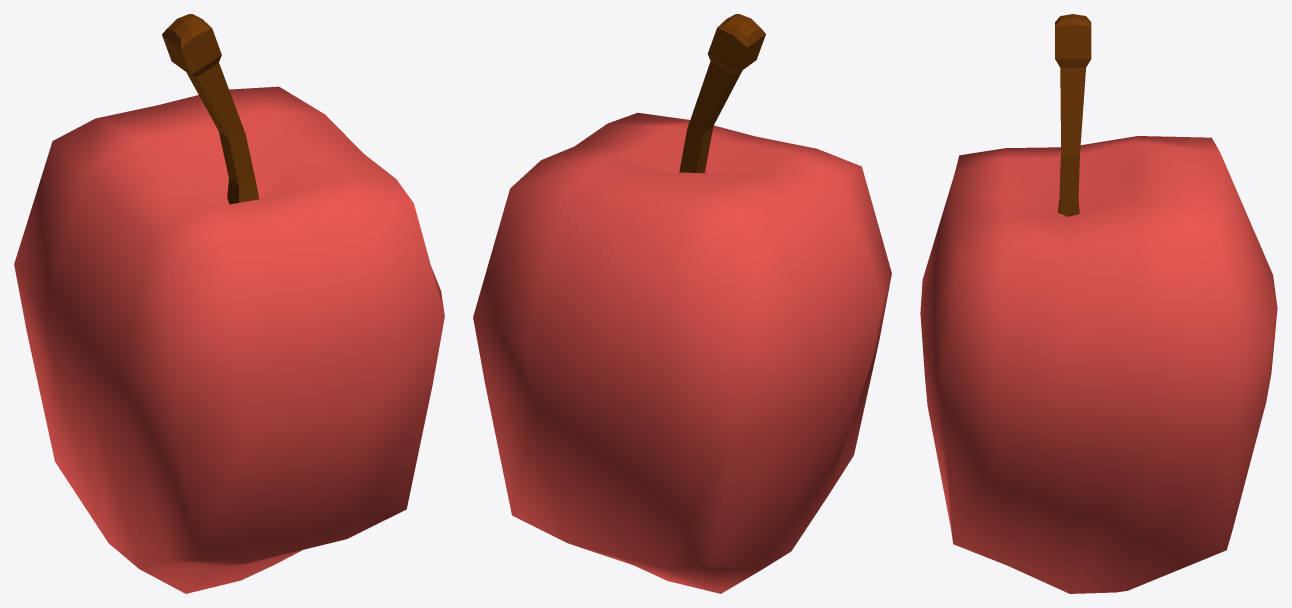
File: Apple.glb
3 renders of one model, left to right at view 1: azimuth 30°, elevation 25°; view 2: azimuth 150°, elevation 25°; view 3: azimuth 270°, elevation 25°, orthographic. The views are drawn at different scales.
Visible parts, largest first — view 1: Apple; view 2: Apple; view 3: Apple.
Part boxes in pixels (x1=…): Apple: x1=14, y1=14, x2=444, y2=593; Apple: x1=473, y1=14, x2=891, y2=593; Apple: x1=920, y1=14, x2=1277, y2=593.
Size of the model in its own units: 0.1 by 0.1685 by 0.1.
